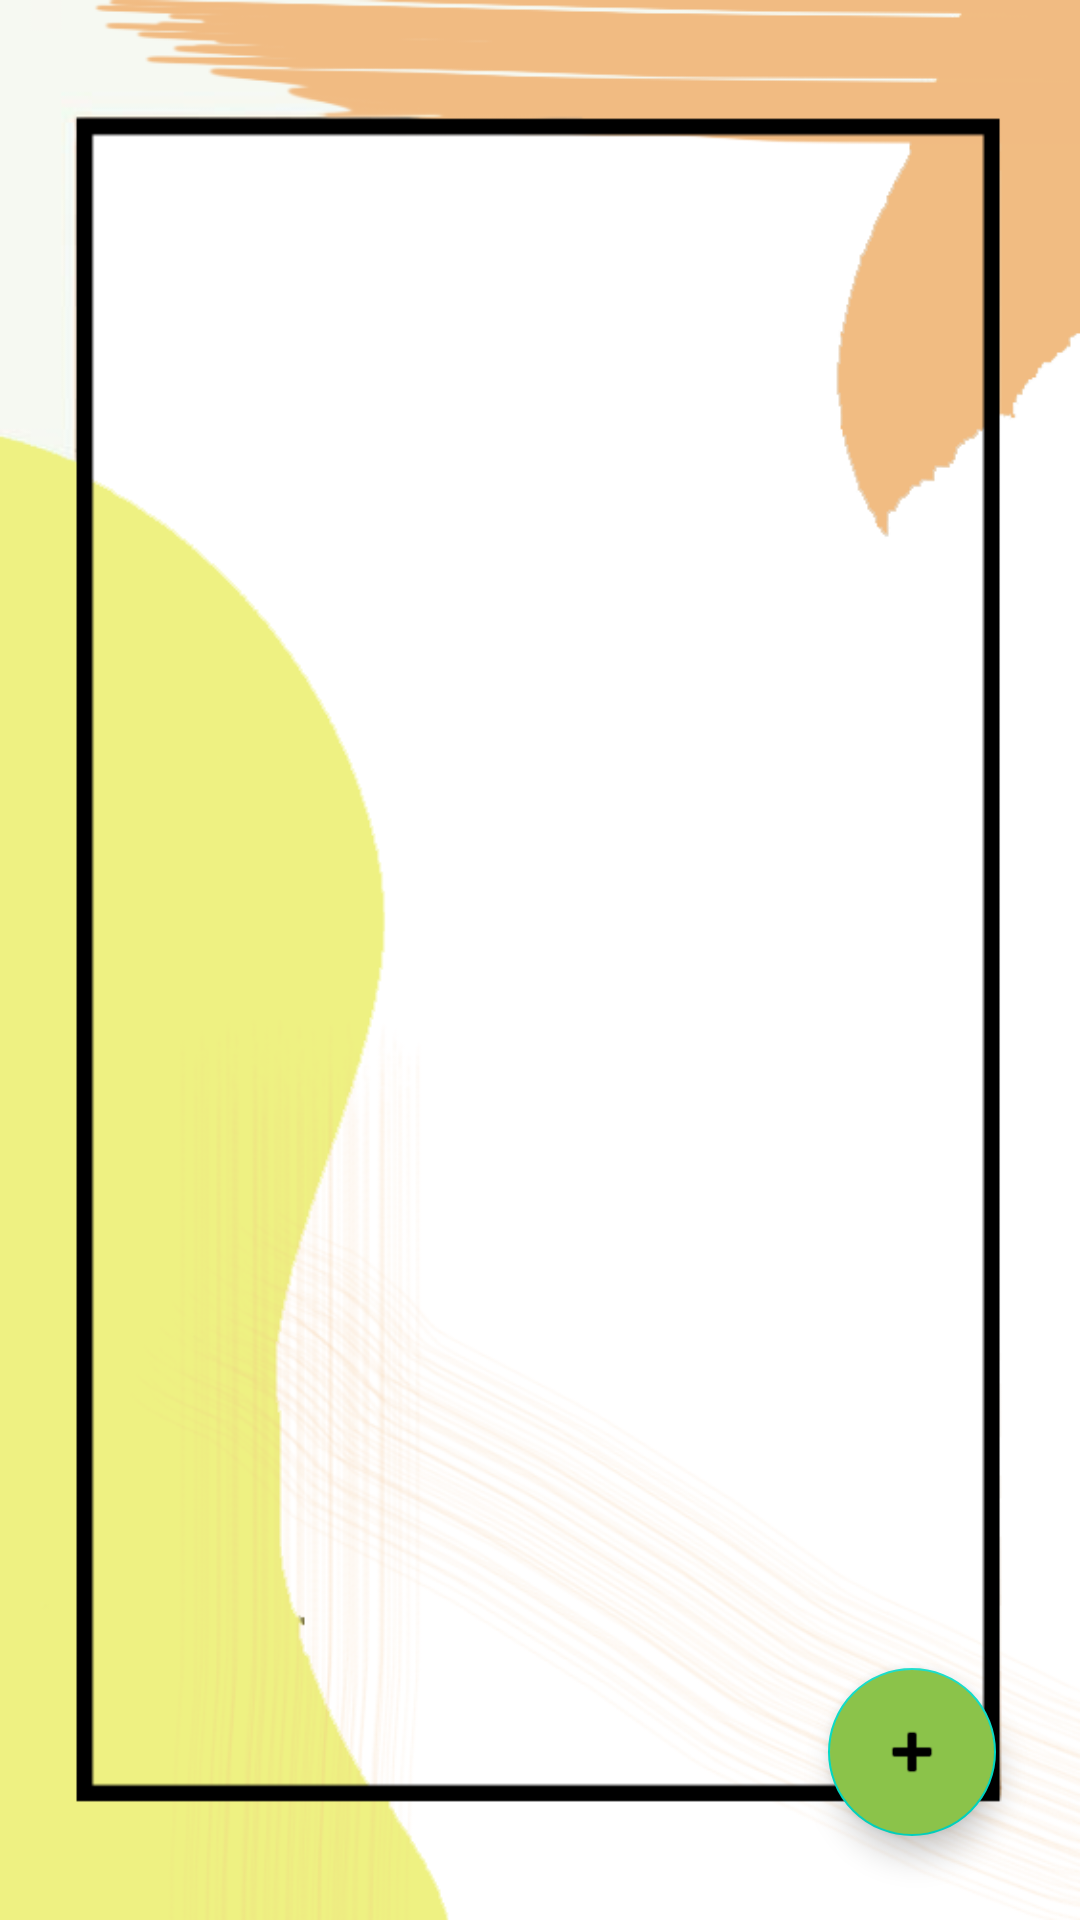

Locate icon controls on the screen. Image size 1080×1920, boxes as (x1, y1, x2, y2).
add: (828, 1668, 996, 1836)
